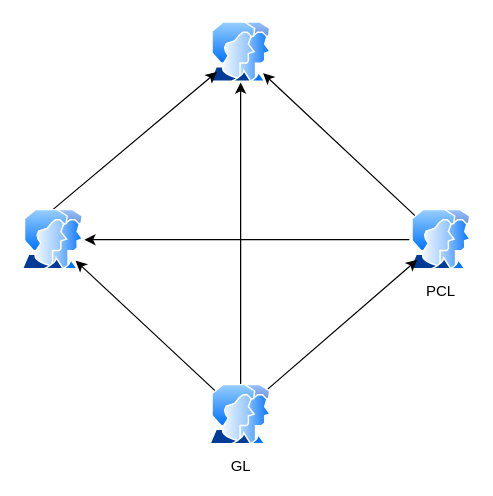
This 493x496 diagram has some shape labels left out. The shapes that lost their labels are listed below. From the top down, each one's centre as x and y in pixels, then its label:
point 240,51: Allgemein
point 52,239: AD
